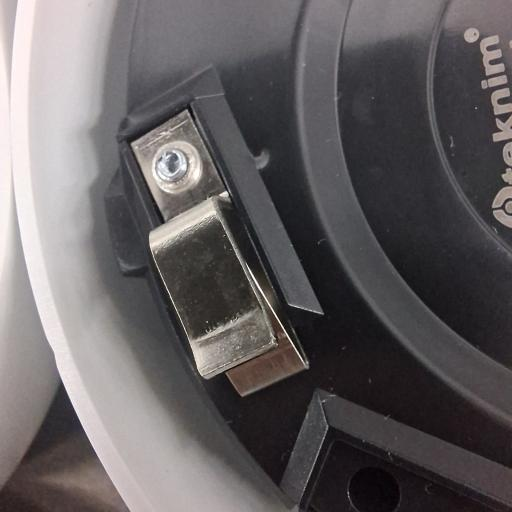yayli: (128, 105, 305, 388)
